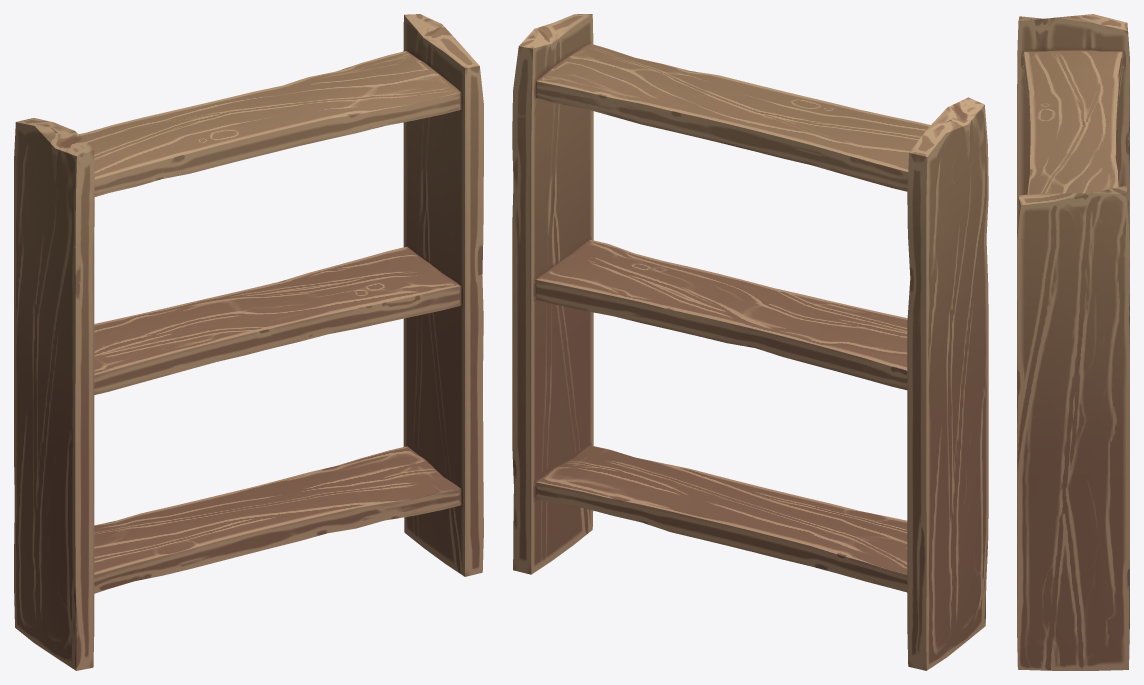
File: shelf_wide.fbx
3 views of the same model, side by side, from view 1: azimuth 30°, elevation 25°; view 2: azimuth 150°, elevation 25°; view 3: azimuth 270°, elevation 25° (orthographic). The views are drawn at different scales.
Parts seen in each view (by area): view 1: shelf_wide; view 2: shelf_wide; view 3: shelf_wide.
Part boxes in pixels (x1,y1,x2,y2): shelf_wide: (14, 14, 483, 670); shelf_wide: (512, 14, 988, 670); shelf_wide: (1017, 14, 1129, 670).
Size of the model in its own units: 209 by 253 by 53.93.
Materials: 1 (1 with a texture image).
